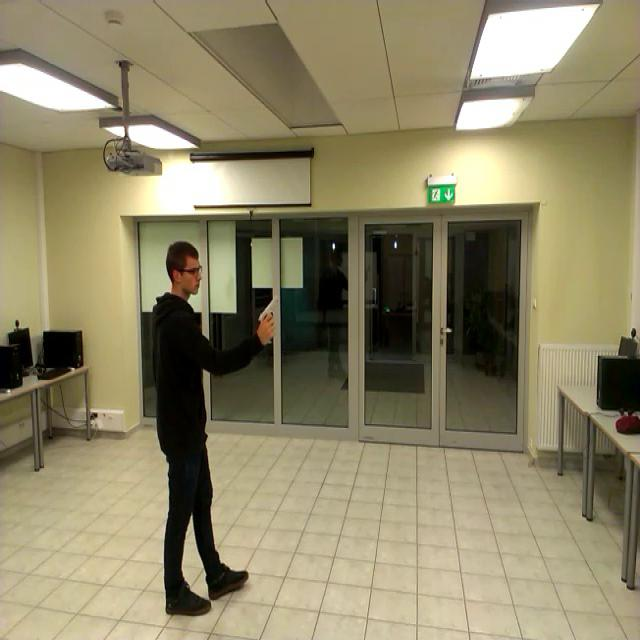handgun: (256, 292, 288, 351)
